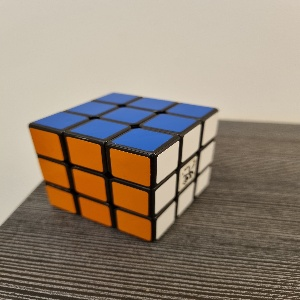cube: (28, 93, 221, 243)
